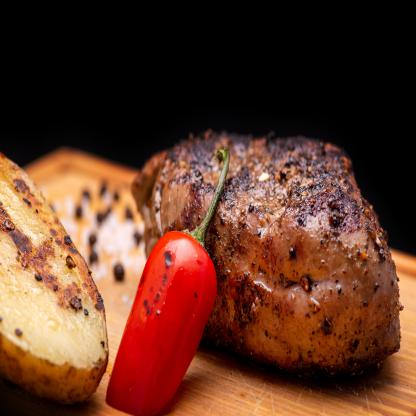Carne: (145, 127, 399, 353)
